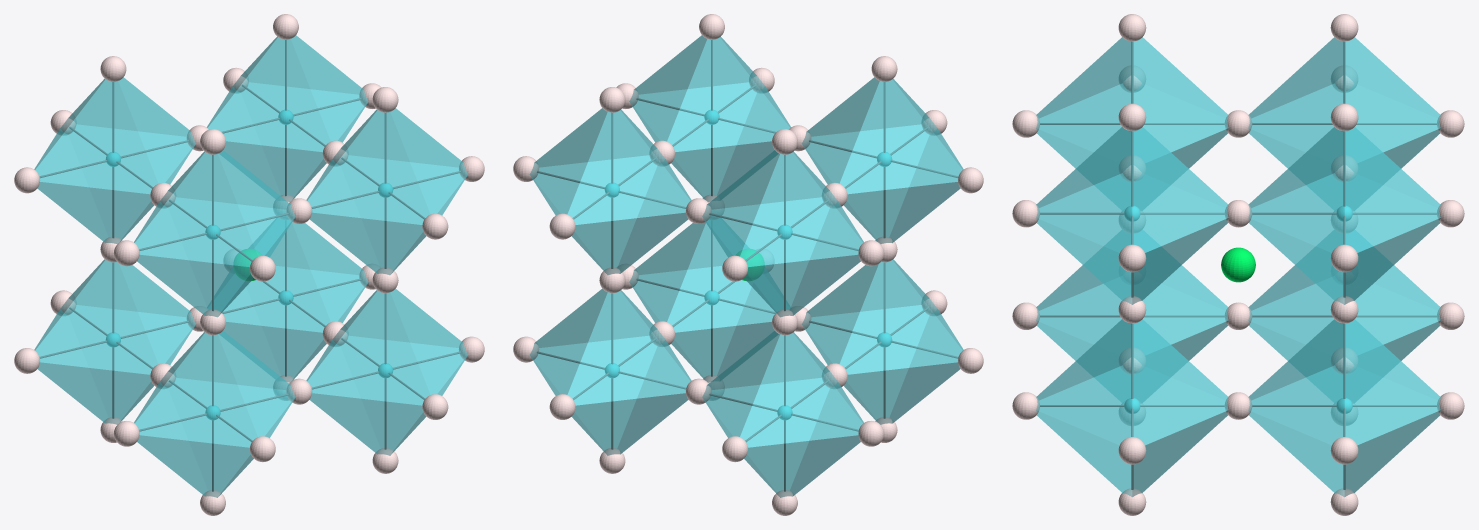
File: SrLiH3.fbx
The picture shows the model from 3 angles, left to right: view 1: azimuth 30°, elevation 25°; view 2: azimuth 150°, elevation 25°; view 3: azimuth 270°, elevation 25°; orthographic projection. The views are drawn at different scales.
Visible parts, largest first — view 1: Shape_IndexedFaceSet.056, Shape_IndexedFaceSet.032, Shape_IndexedFaceSet, Shape_IndexedFaceSet.008, Shape_IndexedFaceSet.040, Shape_IndexedFaceSet.048, Shape_IndexedFaceSet.024, Shape_IndexedFaceSet.047, Shape_IndexedFaceSet.031, Shape_IndexedFaceSet.015, Shape_IndexedFaceSet.063, Shape_IndexedFaceSet.007 (+61 smaller); view 2: Shape_IndexedFaceSet.043, Shape_IndexedFaceSet.051, Shape_IndexedFaceSet.019, Shape_IndexedFaceSet.027, Shape_IndexedFaceSet.059, Shape_IndexedFaceSet.035, Shape_IndexedFaceSet.011, Shape_IndexedFaceSet.060, Shape_IndexedFaceSet.012, Shape_IndexedFaceSet.028, Shape_IndexedFaceSet.044, Shape_IndexedFaceSet.020 (+61 smaller); view 3: Shape_IndexedFaceSet.001, Shape_IndexedFaceSet.021, Shape_IndexedFaceSet.009, Shape_IndexedFaceSet.029, Shape_IndexedFaceSet.013, Shape_IndexedFaceSet.025, Shape_IndexedFaceSet.005, Shape_IndexedFaceSet.017, Shape_IndexedFaceSet.010, Shape_IndexedFaceSet.030, Shape_IndexedFaceSet.002, Shape_IndexedFaceSet.022 (+83 smaller).
Part boxes in pixels (x1=…): Shape_IndexedFaceSet.056: x1=35, y1=79, x2=158, y2=194; Shape_IndexedFaceSet.032: x1=135, y1=333, x2=257, y2=447; Shape_IndexedFaceSet: x1=307, y1=291, x2=430, y2=405; Shape_IndexedFaceSet.008: x1=307, y1=110, x2=430, y2=224; Shape_IndexedFaceSet.040: x1=135, y1=152, x2=257, y2=266; Shape_IndexedFaceSet.048: x1=35, y1=260, x2=157, y2=374; Shape_IndexedFaceSet.024: x1=208, y1=37, x2=330, y2=151; Shape_IndexedFaceSet.047: x1=168, y1=197, x2=290, y2=311; Shape_IndexedFaceSet.031: x1=241, y1=82, x2=363, y2=196; Shape_IndexedFaceSet.015: x1=341, y1=155, x2=462, y2=269; Shape_IndexedFaceSet.063: x1=69, y1=124, x2=190, y2=238; Shape_IndexedFaceSet.007: x1=341, y1=336, x2=462, y2=449; Shape_IndexedFaceSet.043: x1=839, y1=79, x2=962, y2=194; Shape_IndexedFaceSet.051: x1=740, y1=333, x2=862, y2=447; Shape_IndexedFaceSet.019: x1=567, y1=291, x2=690, y2=405; Shape_IndexedFaceSet.027: x1=567, y1=110, x2=690, y2=224; Shape_IndexedFaceSet.059: x1=740, y1=152, x2=862, y2=266; Shape_IndexedFaceSet.035: x1=840, y1=260, x2=962, y2=374; Shape_IndexedFaceSet.011: x1=667, y1=37, x2=789, y2=151; Shape_IndexedFaceSet.060: x1=707, y1=197, x2=829, y2=311; Shape_IndexedFaceSet.012: x1=634, y1=82, x2=756, y2=196; Shape_IndexedFaceSet.028: x1=535, y1=155, x2=656, y2=269; Shape_IndexedFaceSet.044: x1=807, y1=124, x2=928, y2=238; Shape_IndexedFaceSet.020: x1=535, y1=336, x2=656, y2=449; Shape_IndexedFaceSet.001: x1=1036, y1=319, x2=1132, y2=445; Shape_IndexedFaceSet.021: x1=1344, y1=319, x2=1440, y2=445; Shape_IndexedFaceSet.009: x1=1036, y1=127, x2=1132, y2=252; Shape_IndexedFaceSet.029: x1=1344, y1=127, x2=1440, y2=252; Shape_IndexedFaceSet.013: x1=1132, y1=127, x2=1228, y2=252; Shape_IndexedFaceSet.025: x1=1248, y1=127, x2=1344, y2=252; Shape_IndexedFaceSet.005: x1=1132, y1=319, x2=1228, y2=445; Shape_IndexedFaceSet.017: x1=1248, y1=319, x2=1344, y2=445; Shape_IndexedFaceSet.010: x1=1037, y1=173, x2=1130, y2=300; Shape_IndexedFaceSet.030: x1=1346, y1=173, x2=1439, y2=300; Shape_IndexedFaceSet.002: x1=1037, y1=366, x2=1130, y2=492; Shape_IndexedFaceSet.022: x1=1346, y1=366, x2=1439, y2=492.
Size of the model in its own units: 817 by 817 by 817.
